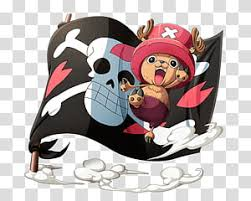chopper: (129, 18, 206, 90)
